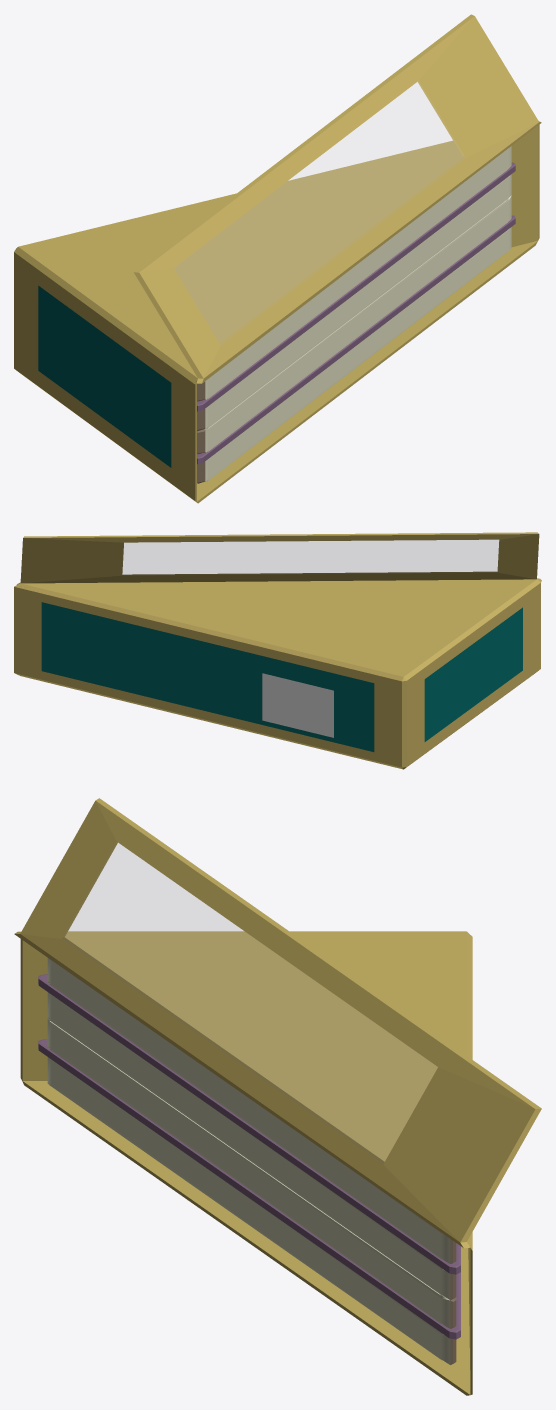
The model's file is Sandwich boxed open.fbx.
3 renders of one model, top to bottom at view 1: azimuth 30°, elevation 25°; view 2: azimuth 150°, elevation 25°; view 3: azimuth 270°, elevation 25°, orthographic. The views are drawn at different scales.
Visible parts, largest first — view 1: pCube10, pCube12, pCube11; view 2: pCube10; view 3: pCube10, pCube12, pCube11.
Part boxes in pixels (bbox=[...]): pCube10: bbox=[14, 14, 541, 503]; pCube12: bbox=[197, 195, 515, 483]; pCube11: bbox=[197, 146, 515, 430]; pCube10: bbox=[14, 532, 541, 769]; pCube10: bbox=[14, 798, 541, 1395]; pCube12: bbox=[38, 1019, 460, 1364]; pCube11: bbox=[38, 958, 460, 1300].
Bounding box in the file's own units: 17.68 × 6.58 × 11.79.
